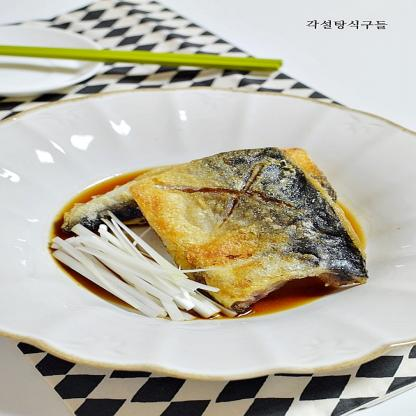Peixe: (108, 147, 357, 317)
